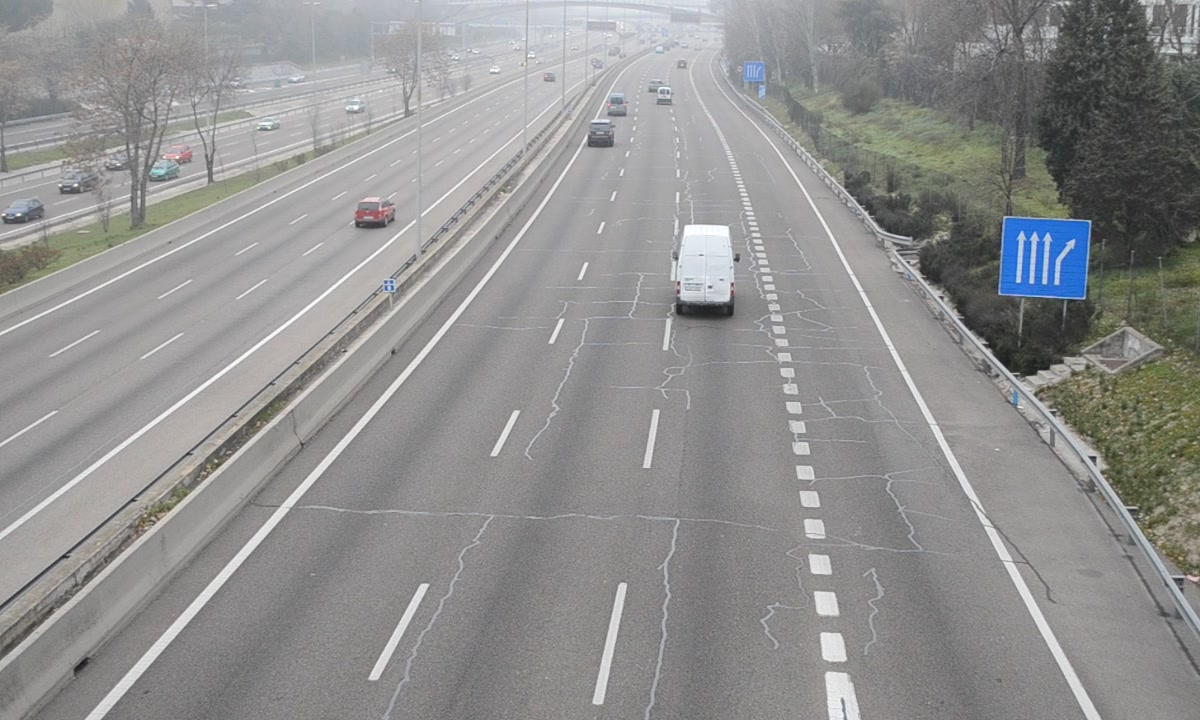car: (588, 118, 615, 148)
van: (676, 225, 738, 314), (607, 93, 625, 118)
